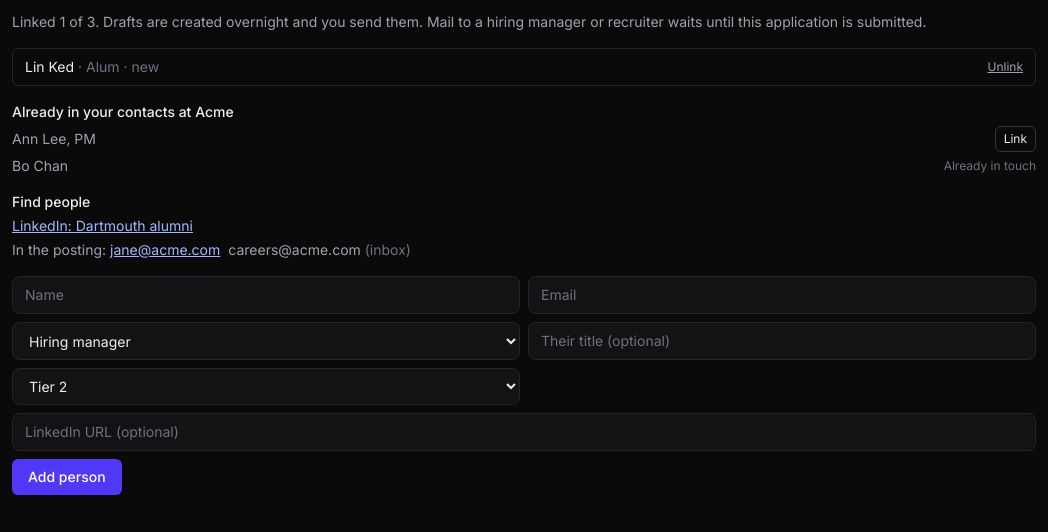
Test: PeoplePanel › offers an email guessed from two agreeing known addresses, never filling it by itself
The width and height of the screenshot is (1048, 532).
Type "Jane Doe" into the field labelled "Name" at (266, 295), box x1=12 y1=276 x2=520 y2=314
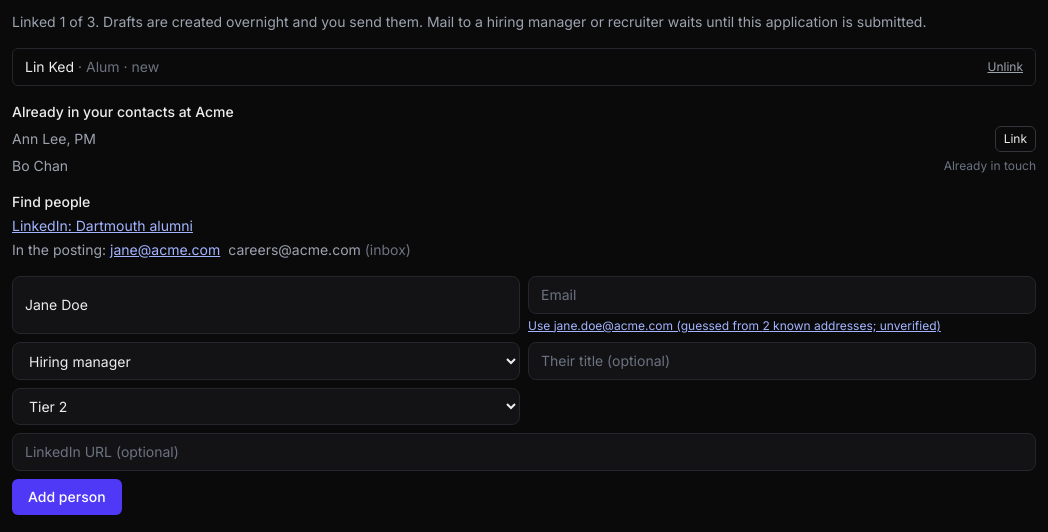
Check: the field labelled "Email" is empty, box x1=528 y1=276 x2=1036 y2=314
Click the button "Use jane.doe@acme.com (guessed from 2 known addresses; unverified)" at (734, 326), box x1=528 y1=318 x2=941 y2=334
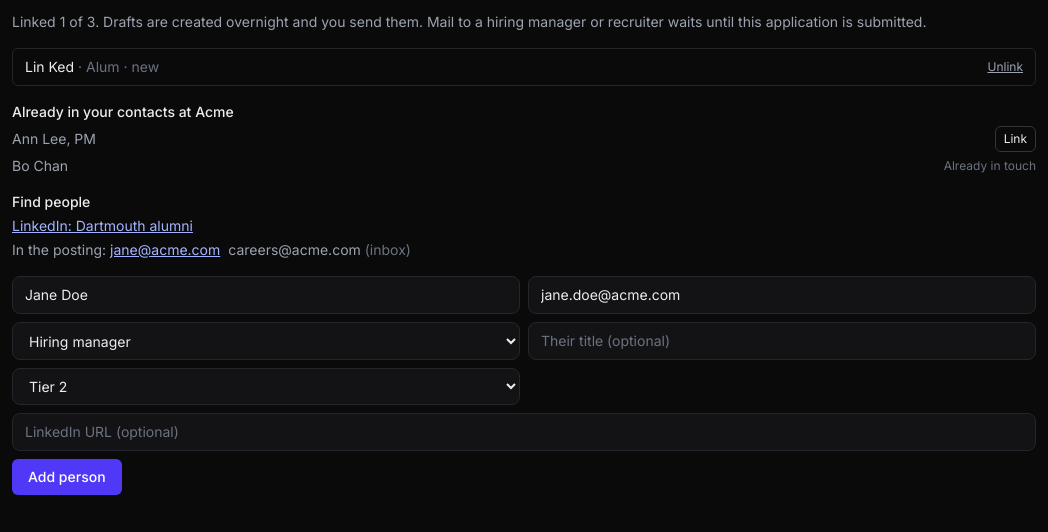
Check: the field named "Email" holds "jane.doe@acme.com", box x1=528 y1=276 x2=1036 y2=314
